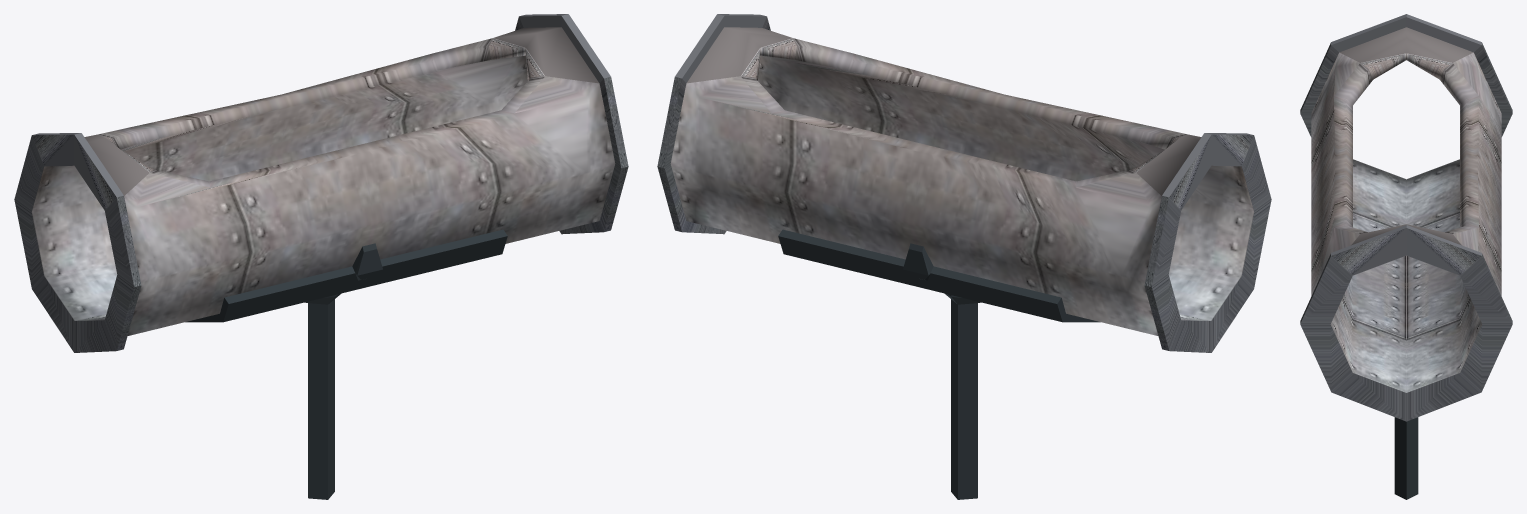
The model's file is pipe_E.glb.
3 views of the same model, side by side, from view 1: azimuth 30°, elevation 25°; view 2: azimuth 150°, elevation 25°; view 3: azimuth 270°, elevation 25° (orthographic). The views are drawn at different scales.
Visible parts, largest first — view 1: zhuti.I; view 2: zhuti.I; view 3: zhuti.I.
Boxes of the visible parts, box(x1,y1,x2,y2) form: zhuti.I: box(14, 14, 628, 499); zhuti.I: box(657, 14, 1271, 499); zhuti.I: box(1300, 14, 1512, 499).
Size of the model in its own units: 10.01 by 8.14 by 4.2.
Materials: 3 (2 with a texture image).
